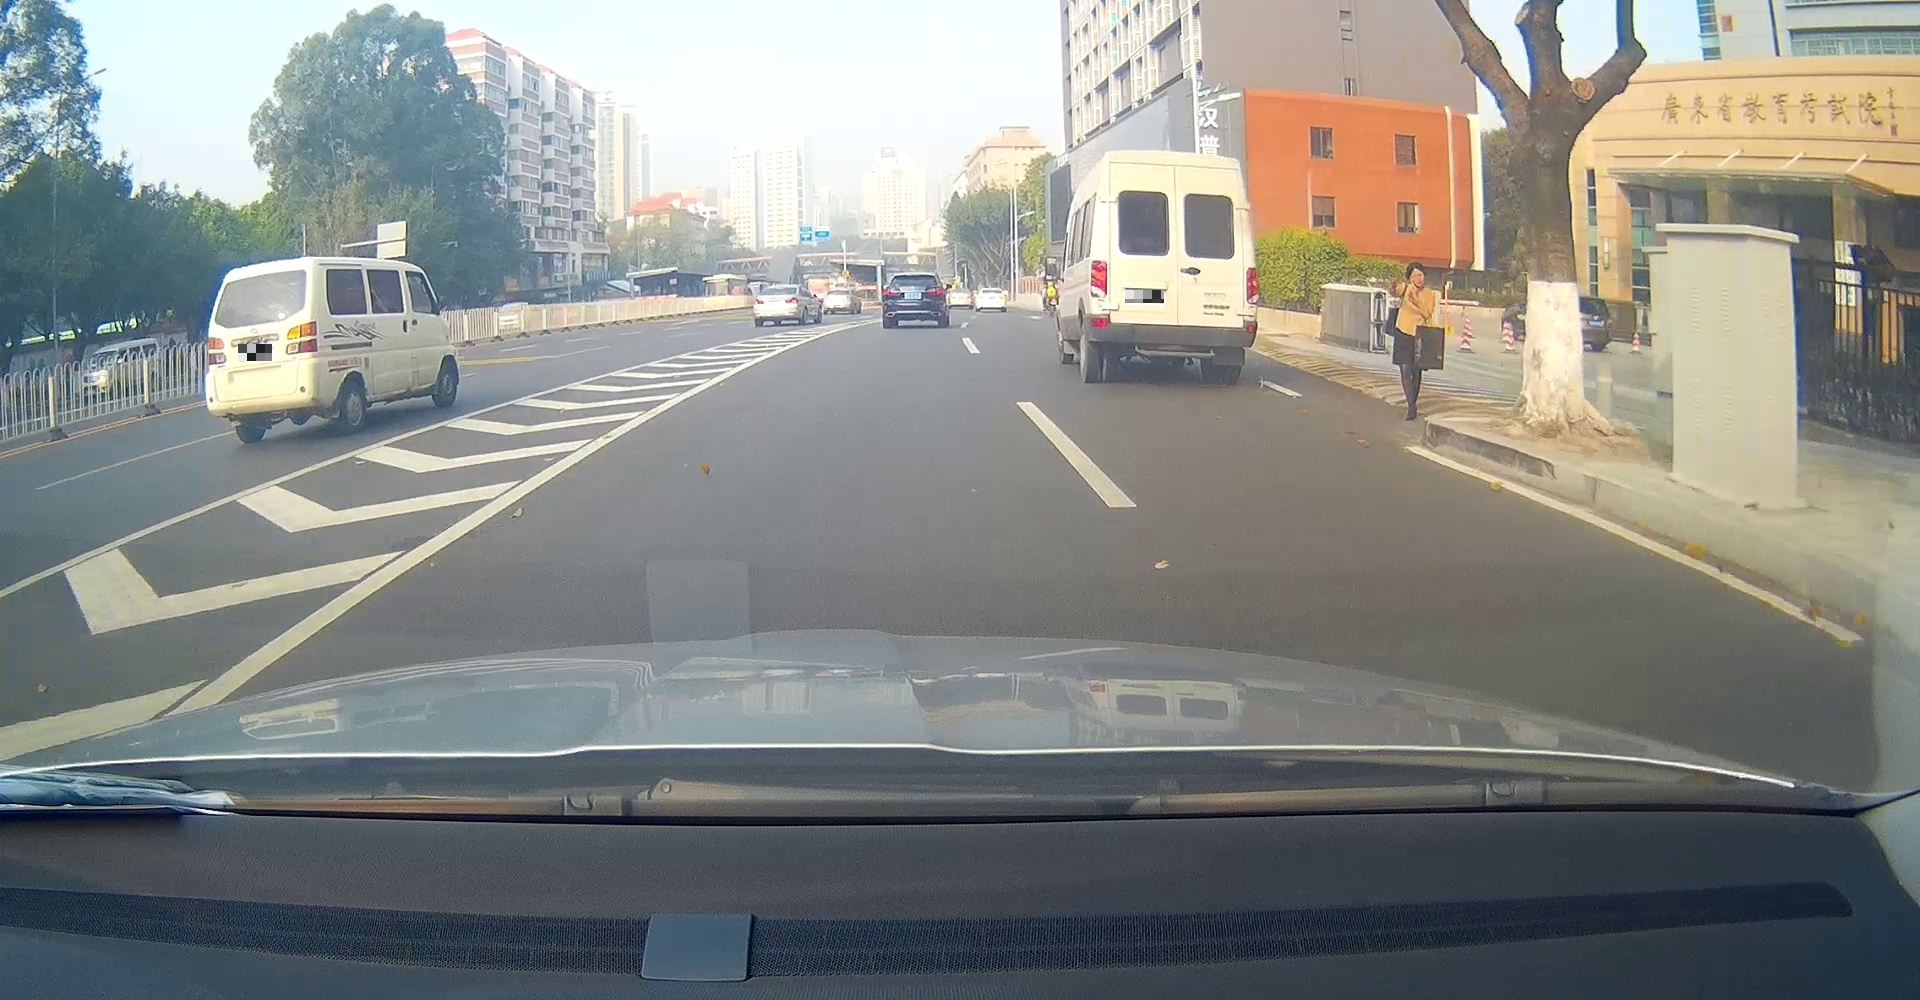L_light: (1090, 260, 1107, 299), (204, 336, 227, 365), (883, 287, 900, 297), (754, 299, 764, 305), (823, 297, 827, 305), (977, 296, 982, 301)
R_light: (284, 321, 319, 355), (1246, 266, 1258, 305), (926, 286, 943, 296), (786, 297, 797, 305), (847, 296, 851, 305), (1001, 294, 1004, 299)
T_light: (251, 272, 274, 277), (1170, 161, 1183, 168), (905, 274, 919, 279), (776, 286, 783, 291), (836, 291, 842, 292), (989, 289, 996, 291)
day-no: (1084, 148, 1258, 385), (202, 256, 324, 445), (880, 273, 947, 327), (752, 283, 801, 325), (977, 288, 1007, 312), (823, 289, 852, 313)
plate_1: (237, 344, 272, 360)
plate_2: (1125, 291, 1164, 303)
